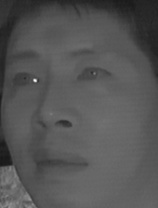eye: (74, 64, 113, 87), (9, 70, 42, 92)
mouth: (32, 147, 90, 179)
